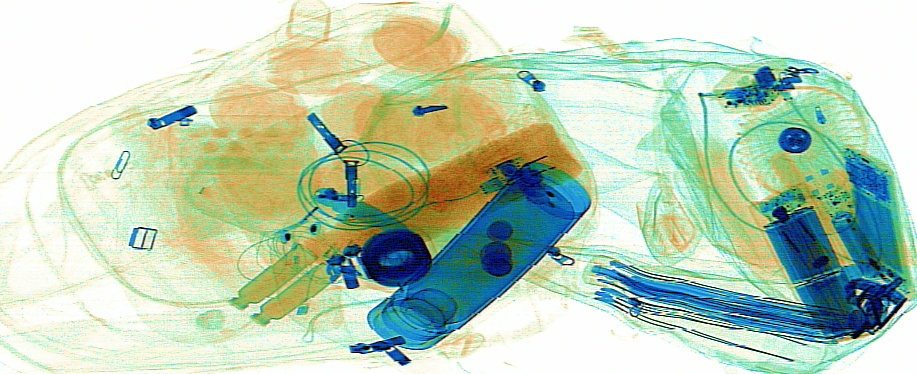knife: (310, 186, 419, 252)
powerbank: (748, 177, 872, 339)
